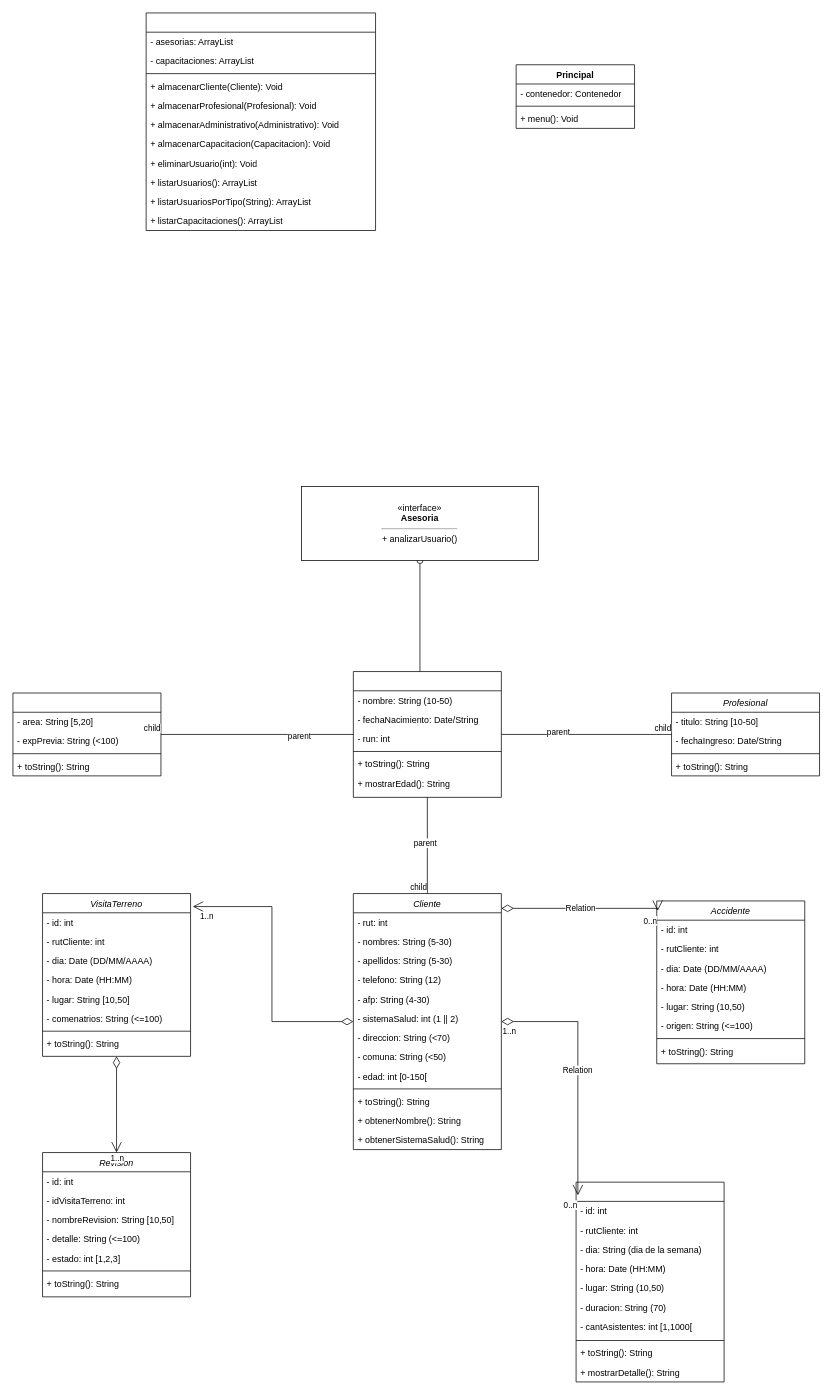
The diagram is 833 pixels wide and 1397 high, and some of its shapes have lost their labels. Here are the shapes that lost their labels. From the top down, the box of each, then its label:
(145, 12, 376, 231): Contenedor
(12, 692, 161, 776): Administrativo
(353, 671, 501, 797): Usuario
(575, 1181, 724, 1382): Capacitacion
